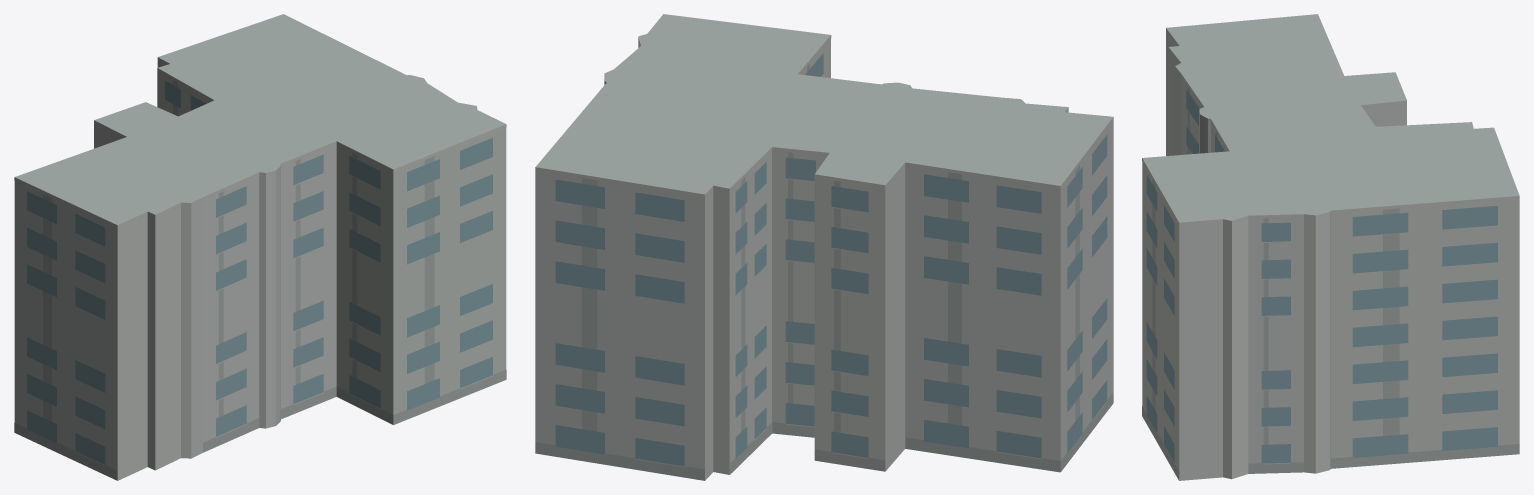
Rendered from survey-upis-32806233.glb.
3 views of the same model, side by side, from view 1: azimuth 30°, elevation 25°; view 2: azimuth 150°, elevation 25°; view 3: azimuth 270°, elevation 25° (orthographic). The views are drawn at different scales.
Parts seen in each view (by area): view 1: survey-upis-32806233.tmp; view 2: survey-upis-32806233.tmp; view 3: survey-upis-32806233.tmp.
Part boxes in pixels (<box>): survey-upis-32806233.tmp: <box>14,14,506,480</box>; survey-upis-32806233.tmp: <box>535,14,1113,480</box>; survey-upis-32806233.tmp: <box>1142,14,1519,480</box>.
Bounding box in the file's own units: 35.18 × 20.3 × 26.91.
